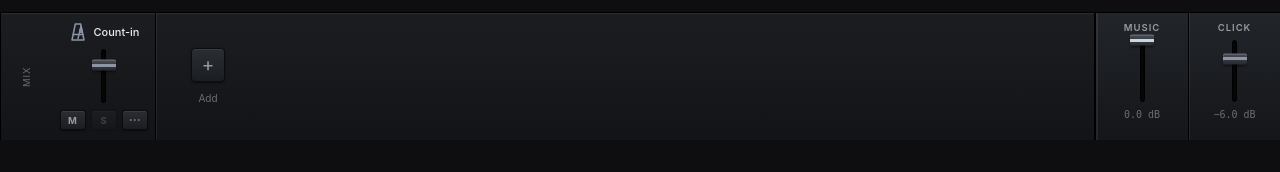
Test: the channel menu › offers a click track only what a click track can do
Click the button "⋯" at (134, 120), box [122,110,148,130]
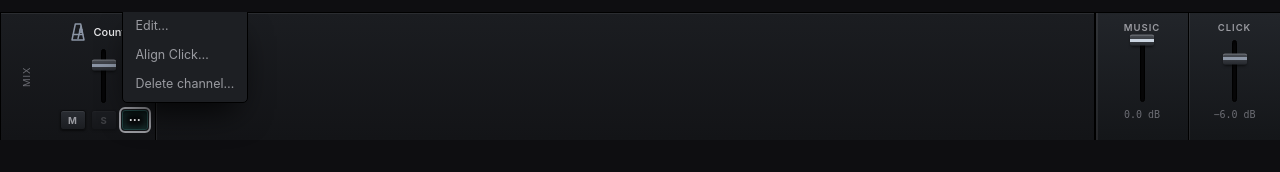
Expected: the menu item "Align Click…" is shown, [126,40,243,69]
